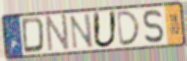D: (20, 16, 46, 55), (116, 10, 142, 48)
N: (45, 12, 71, 53), (68, 12, 95, 51)
S: (142, 8, 166, 45)
U: (91, 10, 118, 50)
